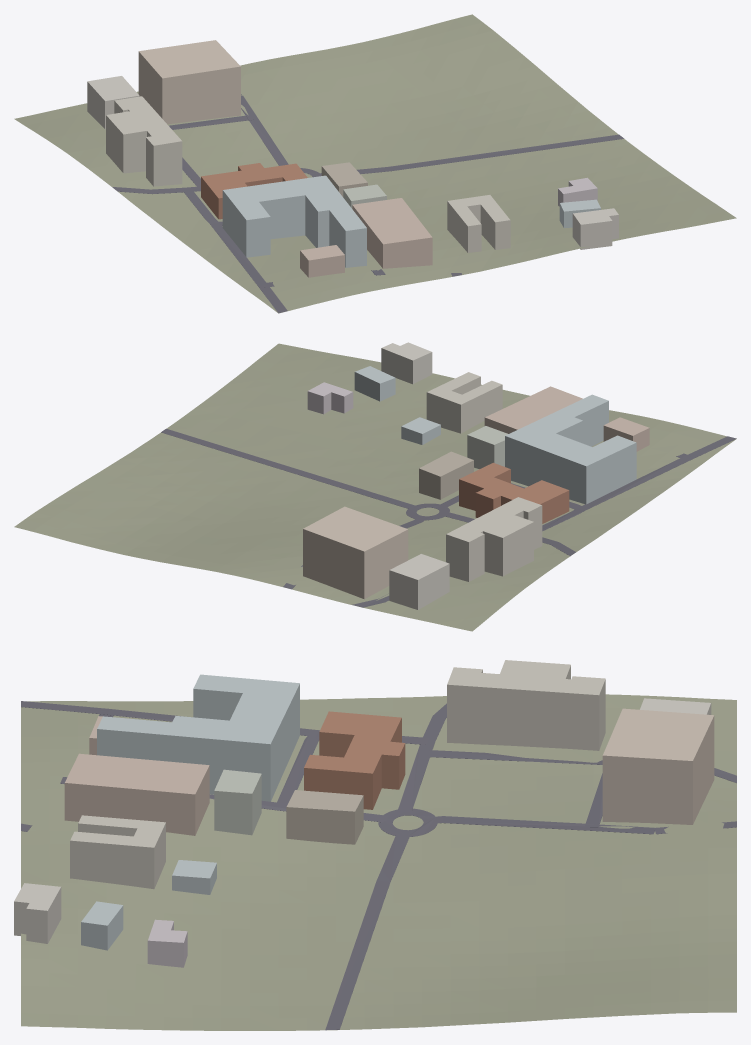
Rendered from chunk_1_2.glb.
The picture shows the model from 3 angles, top to bottom: view 1: azimuth 30°, elevation 25°; view 2: azimuth 150°, elevation 25°; view 3: azimuth 270°, elevation 25°; orthographic projection. The views are drawn at different scales.
Parts seen in each view (by area): view 1: geometry_14, geometry_3, geometry_2, geometry_1, geometry_4, geometry_11, geometry_0, geometry_10, geometry_7, geometry_18, geometry_13, geometry_15 (+6 smaller); view 2: geometry_14, geometry_3, geometry_2, geometry_1, geometry_0, geometry_11, geometry_7, geometry_4, geometry_5, geometry_10, geometry_18, geometry_6 (+5 smaller); view 3: geometry_14, geometry_3, geometry_1, geometry_2, geometry_4, geometry_0, geometry_11, geometry_5, geometry_18, geometry_6, geometry_10, geometry_8 (+9 smaller).
Part boxes in pixels (left/top/right/bottom): geometry_14: left=14, top=14, right=736, bottom=313; geometry_3: left=222, top=175, right=366, bottom=267; geometry_2: left=138, top=40, right=240, bottom=124; geometry_1: left=106, top=96, right=182, bottom=186; geometry_4: left=352, top=198, right=432, bottom=268; geometry_11: left=447, top=195, right=510, bottom=252; geometry_0: left=201, top=163, right=307, bottom=219; geometry_10: left=572, top=208, right=618, bottom=249; geometry_7: left=87, top=76, right=139, bottom=129; geometry_18: left=317, top=134, right=624, bottom=175; geometry_13: left=300, top=245, right=344, bottom=277; geometry_15: left=210, top=223, right=287, bottom=313; geometry_14: left=14, top=343, right=736, bottom=631; geometry_3: left=505, top=394, right=636, bottom=504; geometry_2: left=303, top=506, right=408, bottom=599; geometry_1: left=446, top=497, right=542, bottom=581; geometry_0: left=459, top=462, right=569, bottom=523; geometry_11: left=426, top=372, right=502, bottom=433; geometry_7: left=389, top=554, right=449, bottom=609; geometry_4: left=484, top=386, right=582, bottom=433; geometry_5: left=419, top=451, right=473, bottom=499; geometry_10: left=381, top=342, right=432, bottom=384; geometry_18: left=161, top=428, right=415, bottom=509; geometry_6: left=467, top=426, right=508, bottom=468; geometry_14: left=21, top=694, right=736, bottom=1030; geometry_3: left=97, top=674, right=299, bottom=801; geometry_1: left=447, top=660, right=605, bottom=750; geometry_2: left=602, top=708, right=714, bottom=824; geometry_4: left=64, top=753, right=209, bottom=835; geometry_0: left=304, top=711, right=405, bottom=809; geometry_11: left=70, top=815, right=165, bottom=889; geometry_5: left=286, top=790, right=363, bottom=844; geometry_18: left=325, top=834, right=409, bottom=1030; geometry_6: left=214, top=769, right=261, bottom=835; geometry_10: left=14, top=883, right=61, bottom=943; geometry_8: left=81, top=901, right=123, bottom=950.
Bounding box in the file's own units: 250 × 34.61 × 252.
